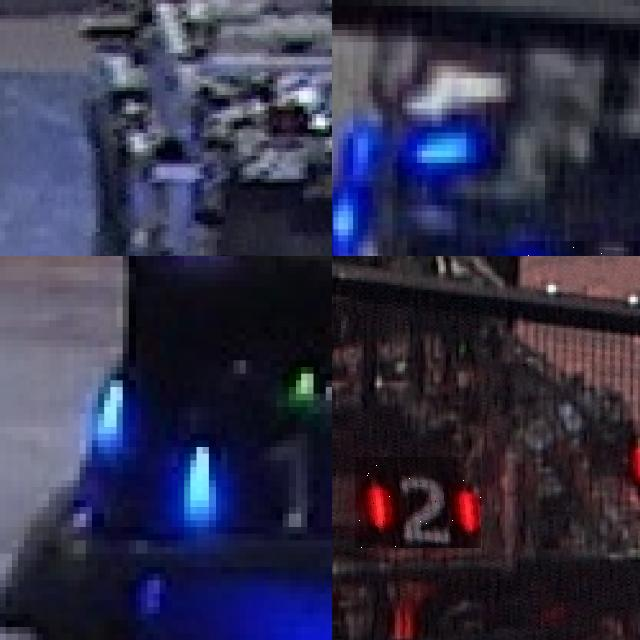B1: (178, 433, 332, 547)
R2: (355, 457, 481, 548)
